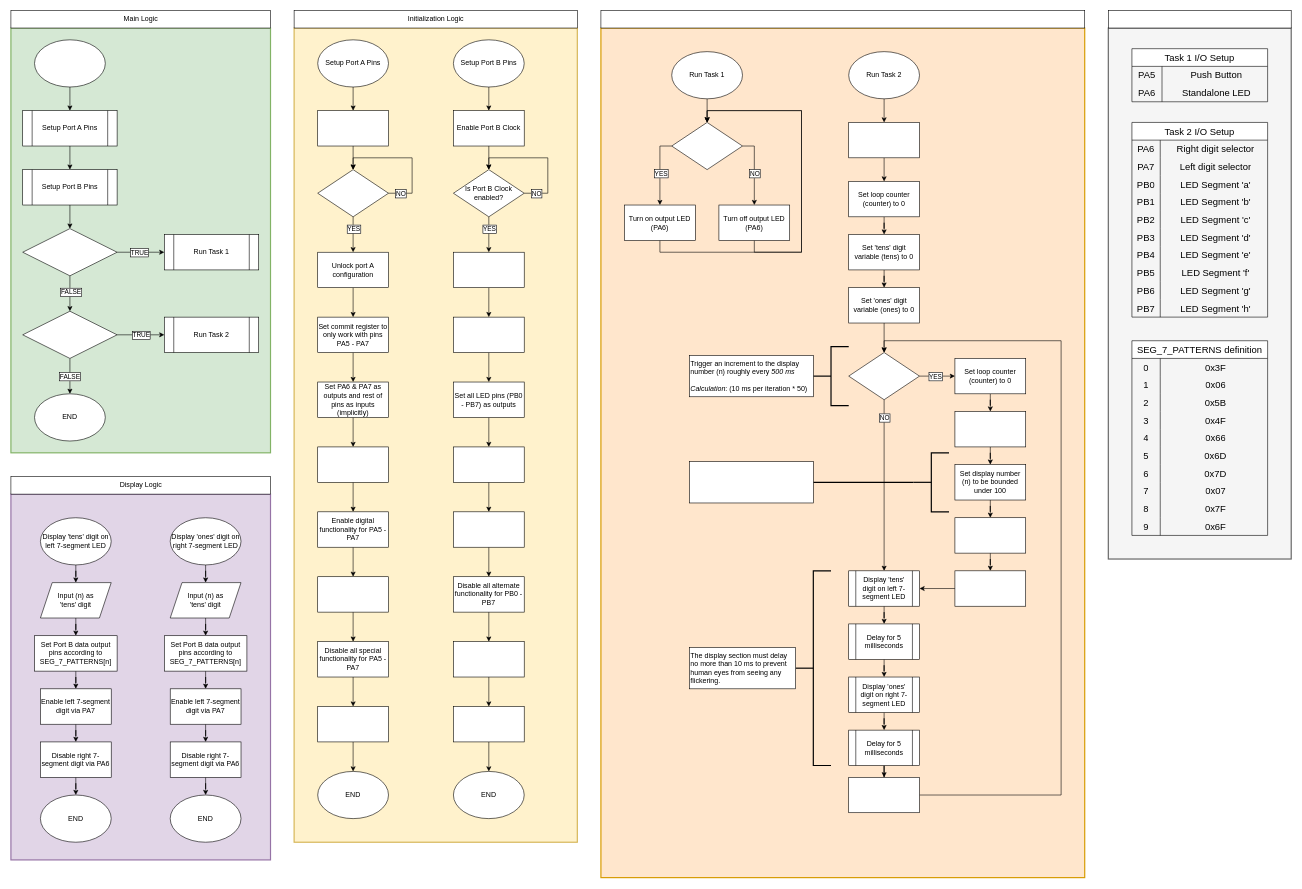
Image size: 1302x889. Some labels were removed from this diagram. The centre of each missing label's shape, as x and y in pixels:
Disable all alternate functionality for PA5 - PA7: (x=353, y=594)
Disable all special functionality for PB0 - PB7: (x=488, y=659)
Disable analog functionality for PA5 - PA7: (x=353, y=464)
Disable analog functionality for PB0 - PB7: (x=488, y=464)
Enable digital functionality for PB0 - PB7: (x=488, y=529)
Enable Port A Clock: (x=353, y=128)
Enable pull-up resistors for input button pin (PA5): (x=353, y=724)
Enable pull-up resistors for PB0 - PB7: (x=488, y=724)
Increment display number (n) by 1: (x=990, y=429)
Increment loop counter (counter) by 1: (x=884, y=795)
Is input button (PA5) pressed?: (x=707, y=146)
Is loop counter >= 50?: (x=884, y=376)
Is Port A Clock enabled?: (x=353, y=193)
Is TASK_NUM set to 1?: (x=69, y=252)
Is TASK_NUM set to 2?: (x=69, y=334)
Lab Task Logic: (x=842, y=19)
Reference Table: (x=1199, y=19)
Set 'ones' digit variable (ones) to "n % 10": (x=990, y=588)
Set 'tens' digit variable (tens) to "n / 10": (x=990, y=535)
Set commit register to only work with pins PB0 - PB7: (x=488, y=335)
Set display number (n) to 0: (x=884, y=140)
START: (x=69, y=63)
This ensures that there's no overflow with the number of digits to be displayed.: (x=751, y=482)
Unlock port B configuration: (x=488, y=270)
